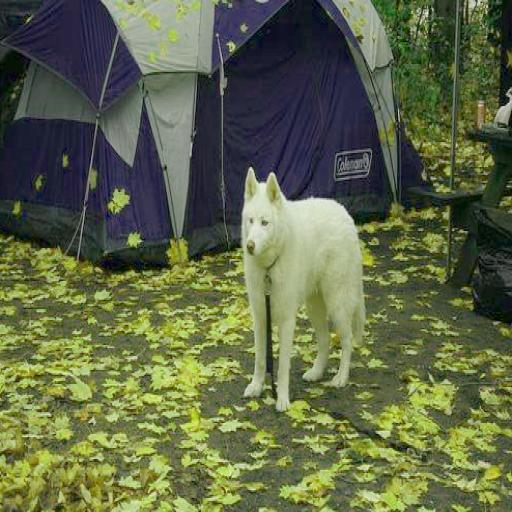dog_face: (237, 165, 281, 256)
